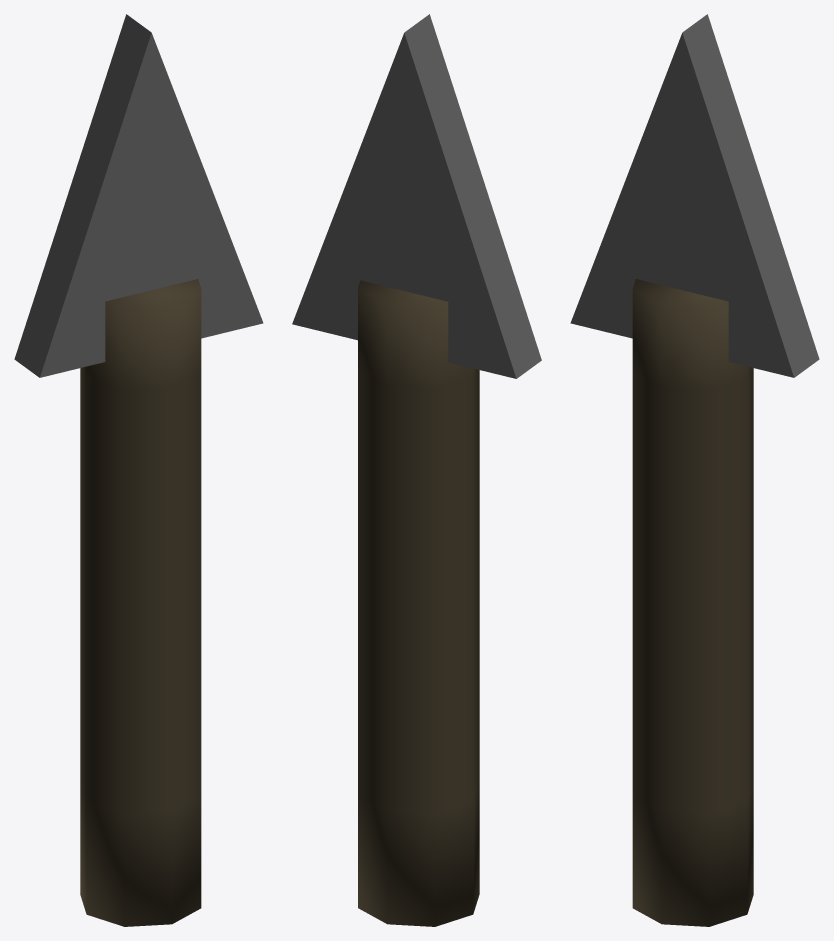
Rendered from arrow.glb.
3 renders of one model, left to right at view 1: azimuth 30°, elevation 25°; view 2: azimuth 150°, elevation 25°; view 3: azimuth 330°, elevation 25°, orthographic.
Parts seen in each view (by area): view 1: ArrowTop; view 2: ArrowTop; view 3: ArrowTop.
Boxes of the visible parts, x1,y1,x2,y2 form: ArrowTop: [14, 14, 263, 926]; ArrowTop: [292, 14, 541, 926]; ArrowTop: [570, 14, 819, 926].
Bounding box in the file's own units: 4.12 × 15.44 × 2.
